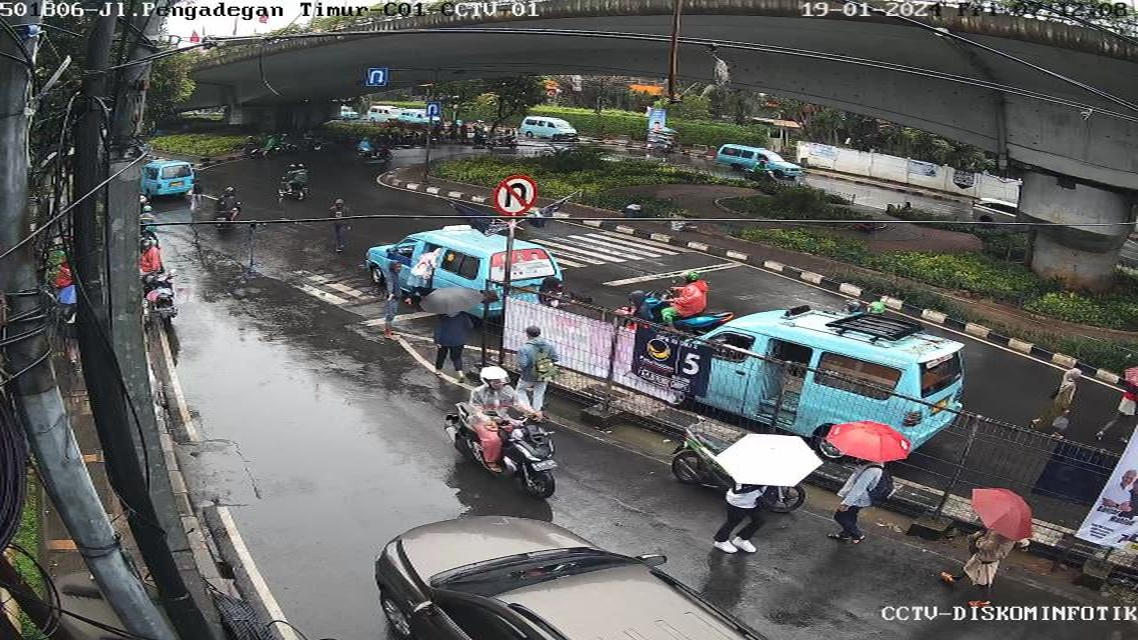Payung: (708, 423, 829, 497), (962, 482, 1049, 547), (825, 412, 918, 466)
